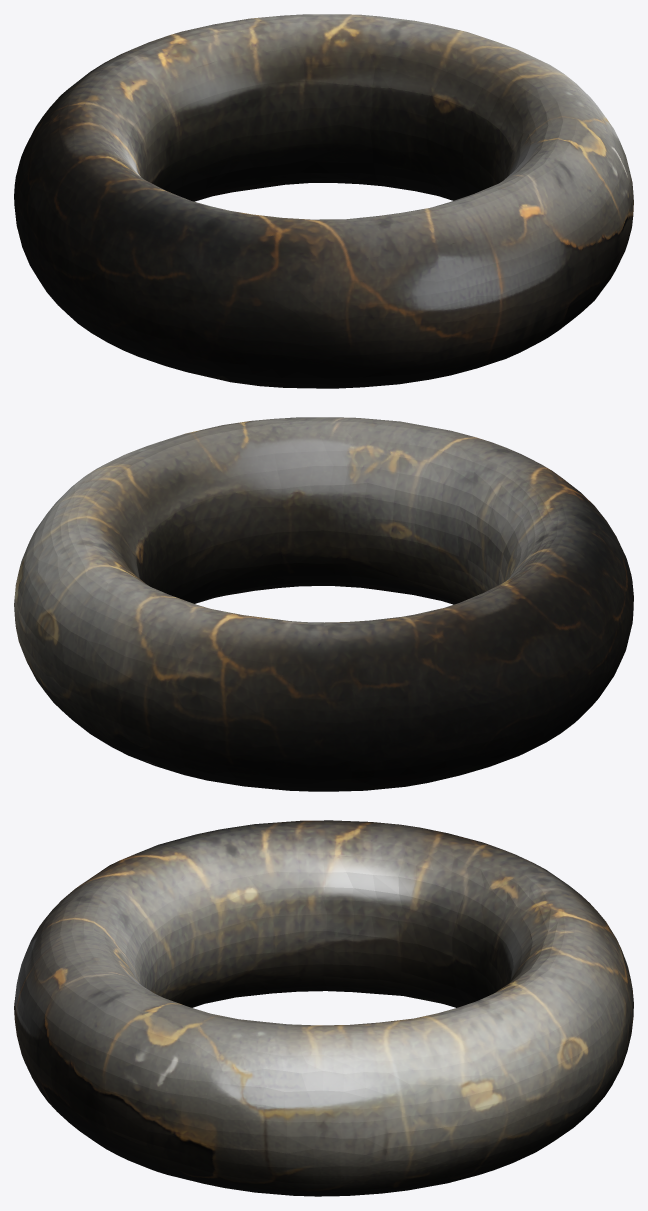
Rendered from lava-stone-yo-yo-aged-hyperrealistic-furniture.jpeg.glb.
3 views of the same model, one above another, from view 1: azimuth 30°, elevation 25°; view 2: azimuth 150°, elevation 25°; view 3: azimuth 270°, elevation 25° (orthographic).
Visible parts, largest first — view 1: world; view 2: world; view 3: world.
Boxes of the visible parts, box(x1,y1,x2,y2) form: world: box(14, 14, 633, 388); world: box(14, 417, 633, 791); world: box(14, 820, 633, 1196).
Bounding box in the file's own units: 0.998 × 0.2902 × 0.9975.
Materials: 1 (1 with a texture image).
